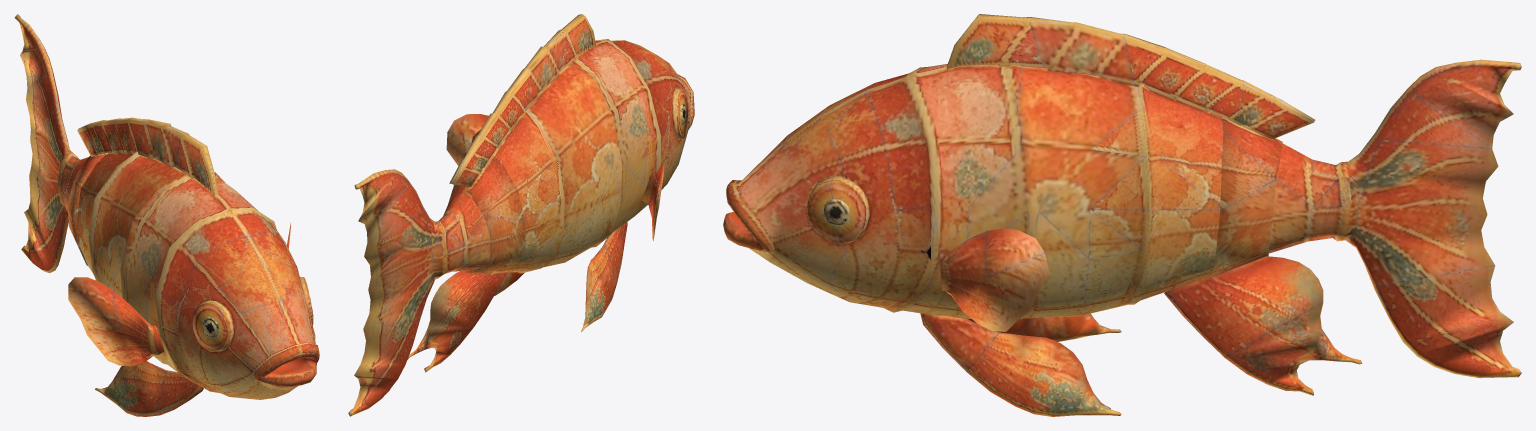
Rendered from 石斑鱼灯.glb.
3 views of the same model, side by side, from view 1: azimuth 30°, elevation 25°; view 2: azimuth 150°, elevation 25°; view 3: azimuth 270°, elevation 25° (orthographic). The views are drawn at different scales.
Visible parts, largest first — view 1: tripo_node_a4eaf15c-6e0e-4d38-bc7b-b4d047da4a33; view 2: tripo_node_a4eaf15c-6e0e-4d38-bc7b-b4d047da4a33; view 3: tripo_node_a4eaf15c-6e0e-4d38-bc7b-b4d047da4a33.
Part boxes in pixels (x1=…): tripo_node_a4eaf15c-6e0e-4d38-bc7b-b4d047da4a33: x1=14, y1=14, x2=319, y2=416; tripo_node_a4eaf15c-6e0e-4d38-bc7b-b4d047da4a33: x1=348, y1=14, x2=694, y2=416; tripo_node_a4eaf15c-6e0e-4d38-bc7b-b4d047da4a33: x1=723, y1=14, x2=1521, y2=416.
Bounding box in the file's own units: 0.4121 × 0.502 × 0.998.
Materials: 1 (1 with a texture image).
